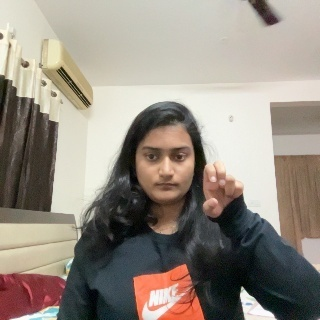Face: (131, 116, 196, 203)
No: (202, 163, 251, 230)
